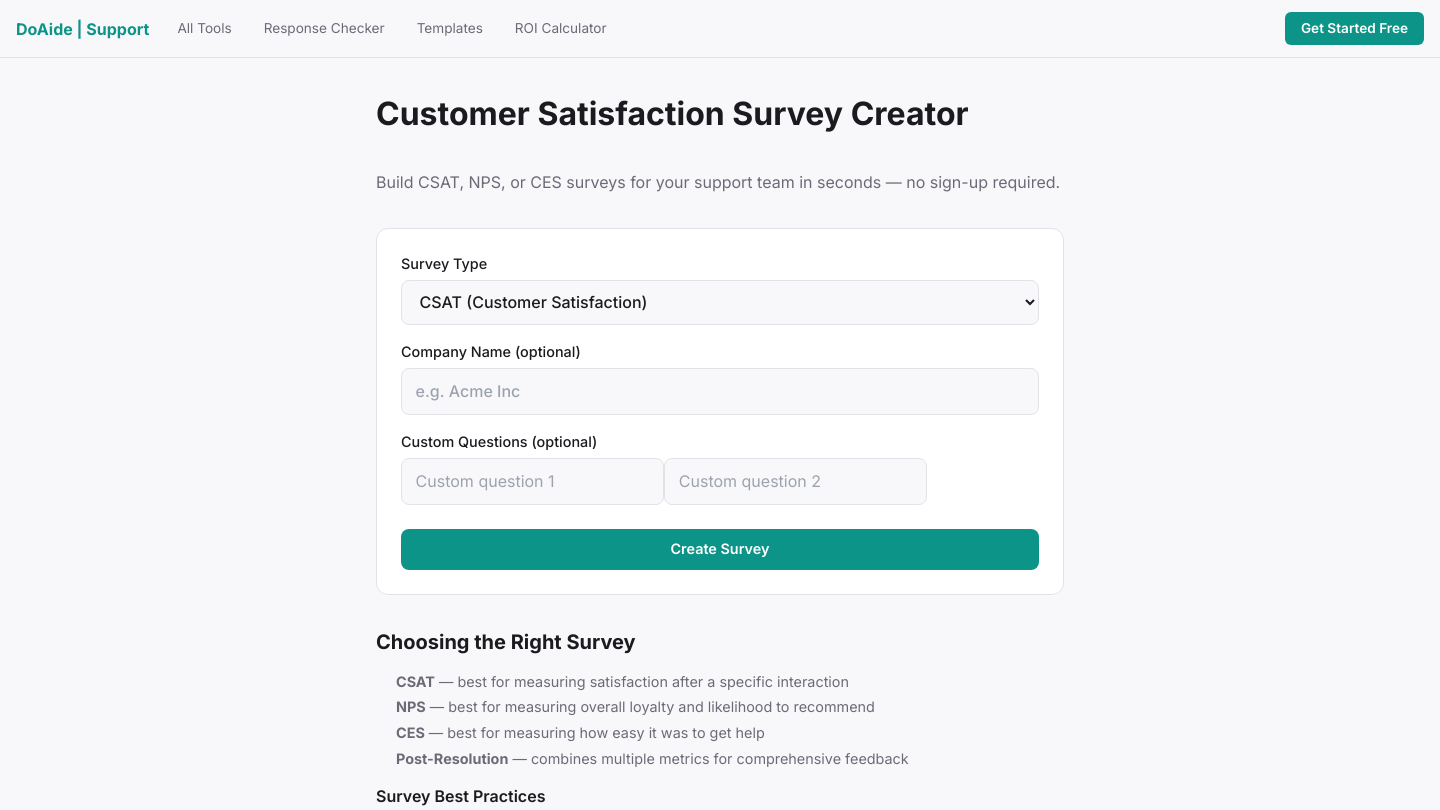
Test: CSATSurveyCreatorPage › creates a CSAT survey on button click
The image size is (1440, 810).
Click the button "Create Survey" at (720, 549), box [401,529,1039,570]
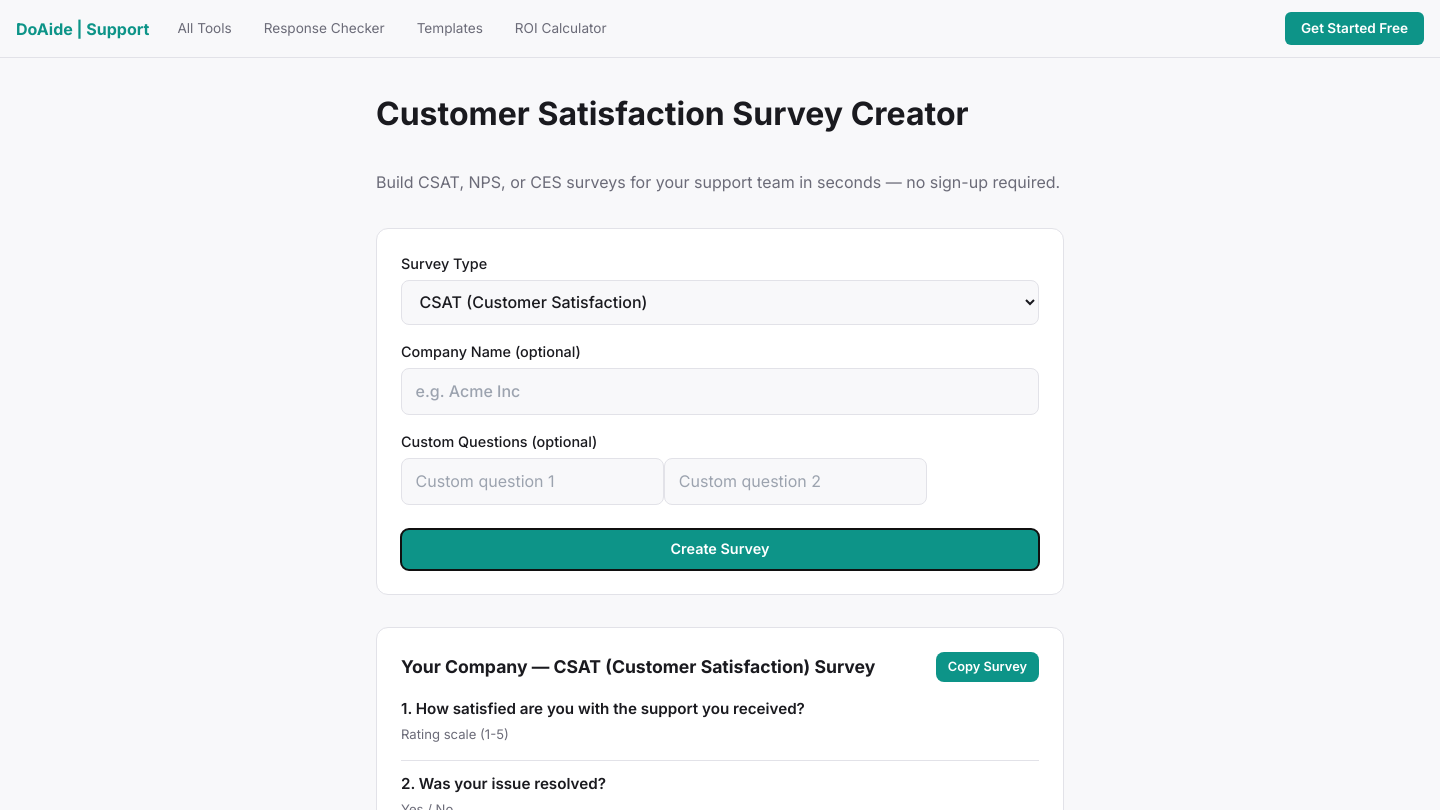
Expected: the text "1. How satisfied are you with the support you received?" is shown, [401,699,805,718]
Expected: the text "2. Was your issue resolved?" is shown, [401,774,606,793]
